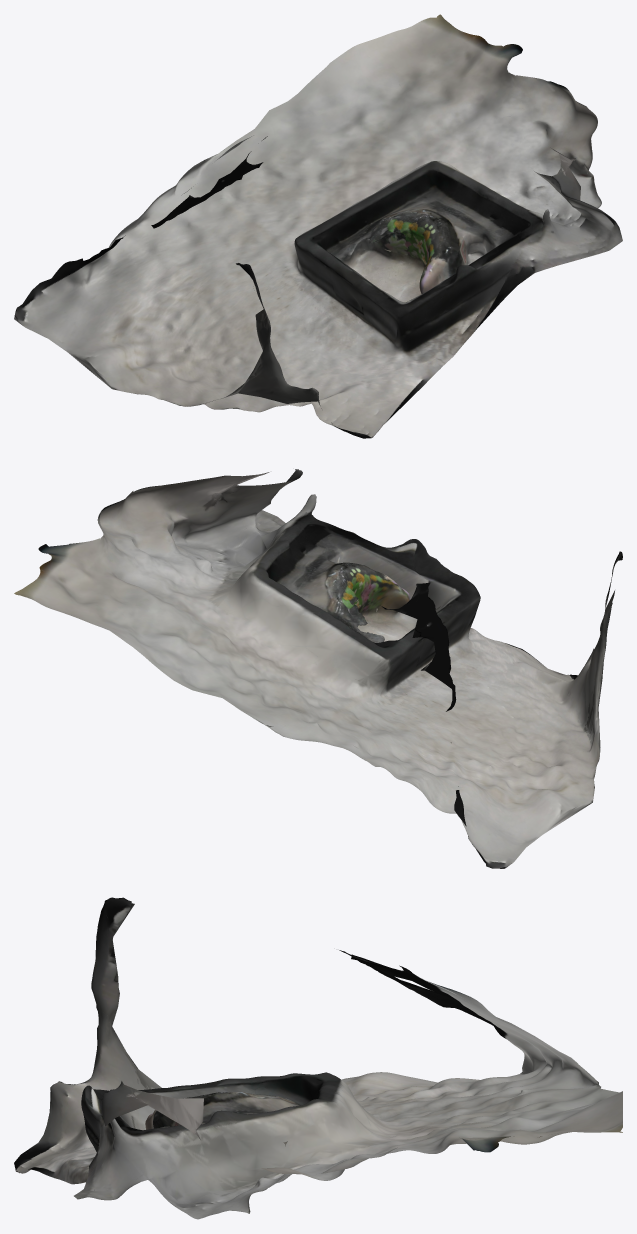
3 views of the same model, one above another, from view 1: azimuth 30°, elevation 25°; view 2: azimuth 150°, elevation 25°; view 3: azimuth 270°, elevation 25° (orthographic). The views are drawn at different scales.
Size of the model in its own units: 1.49 by 0.5378 by 1.27.
1 material, 1 textured.
